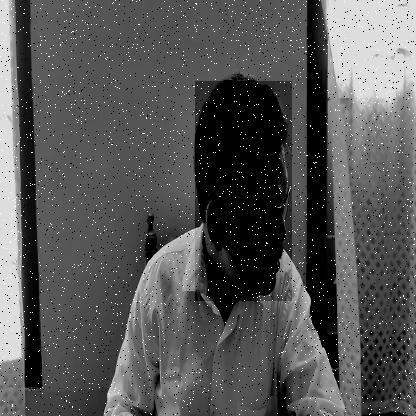Distracted: (195, 81, 292, 301)
